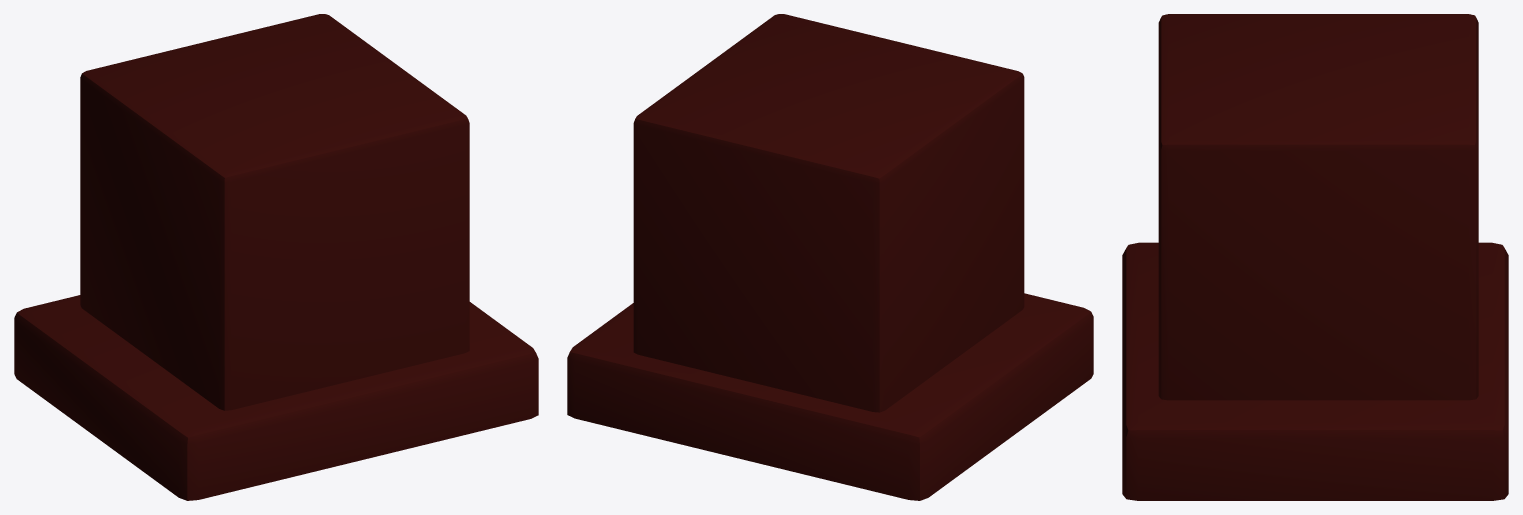
Rendered from boton_GrandeLinterna.fbx.
The picture shows the model from 3 angles, left to right: view 1: azimuth 30°, elevation 25°; view 2: azimuth 150°, elevation 25°; view 3: azimuth 270°, elevation 25°; orthographic projection. The views are drawn at different scales.
Visible parts, largest first — view 1: Solucion_Bien, Solucion_Cuerpo; view 2: Solucion_Bien, Solucion_Cuerpo; view 3: Solucion_Bien, Solucion_Cuerpo.
Part boxes in pixels (box(x1,y1,x2,y2)): Solucion_Bien: box(80, 14, 469, 410); Solucion_Cuerpo: box(14, 295, 538, 500); Solucion_Bien: box(633, 14, 1024, 412); Solucion_Cuerpo: box(567, 293, 1093, 500); Solucion_Bien: box(1158, 14, 1478, 400); Solucion_Cuerpo: box(1122, 242, 1508, 500).
Size of the model in its own units: 5.76 by 4.63 by 4.93.
